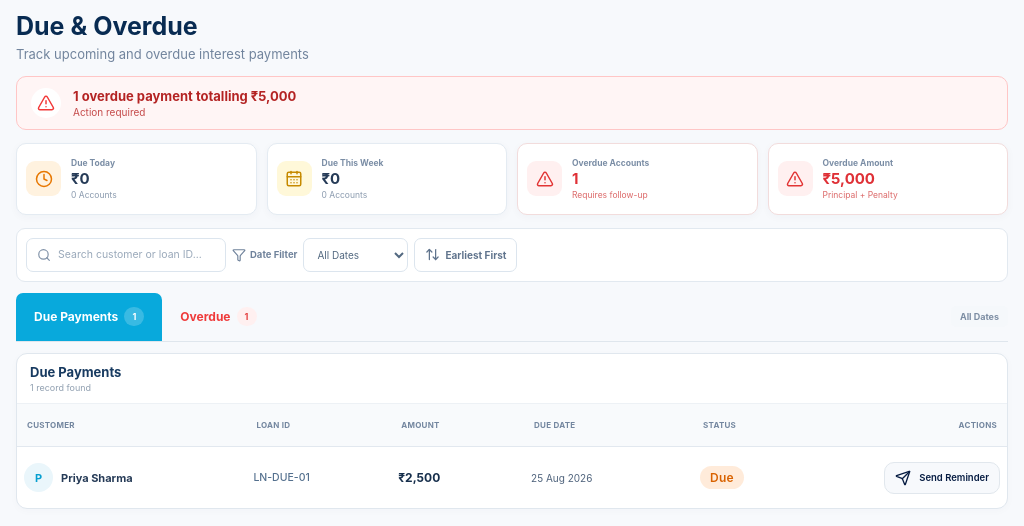
Scenario: DueOverdue Page Component › switches to overdue tab and displays overdue items
Expected: the text "LN-DUE-01" is shown, [253,471,310,484]
Click the button "Overdue 1" at (218, 317), box [162,293,274,341]
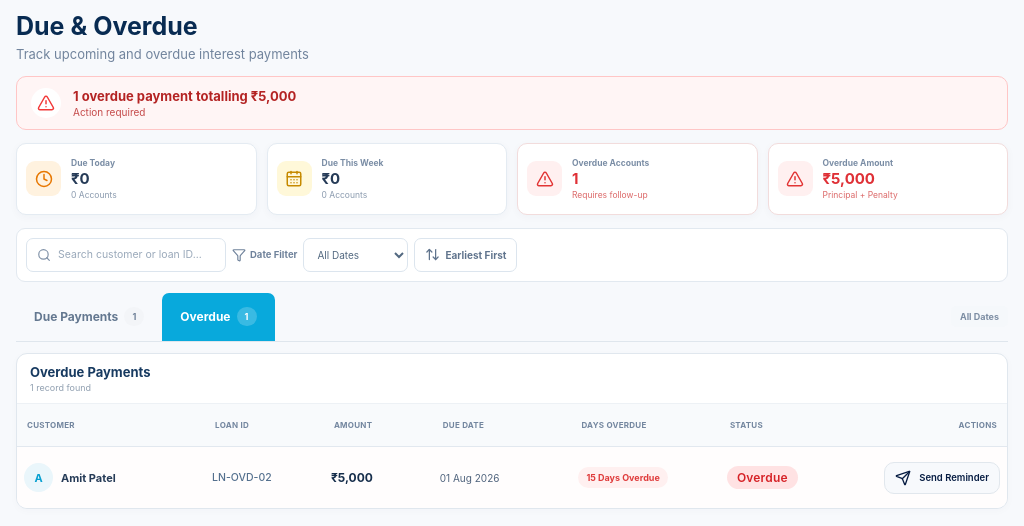
Expected: the text "LN-OVD-02" is shown, [212,471,272,484]
Expected: the text "Amit Patel" is shown, [61,470,116,484]
